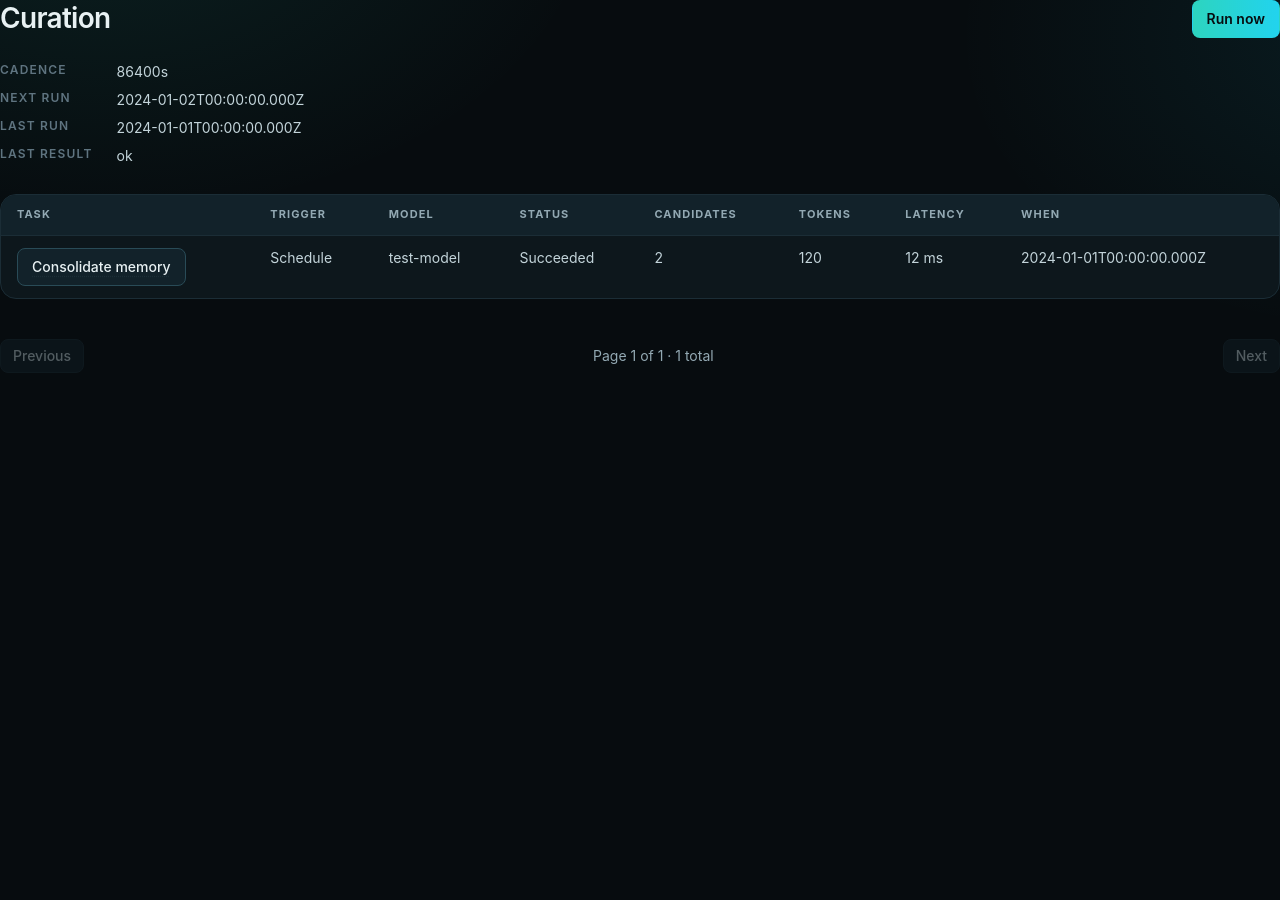
Test: AnalysisRunsPage › opens a task detail dialog with its source events and produced memories
Check: the row with test id "analysis-run-run-1" is shown, box [1,236,1279,298]
Click the button "Consolidate memory" at (101, 267), box [17,248,186,286]
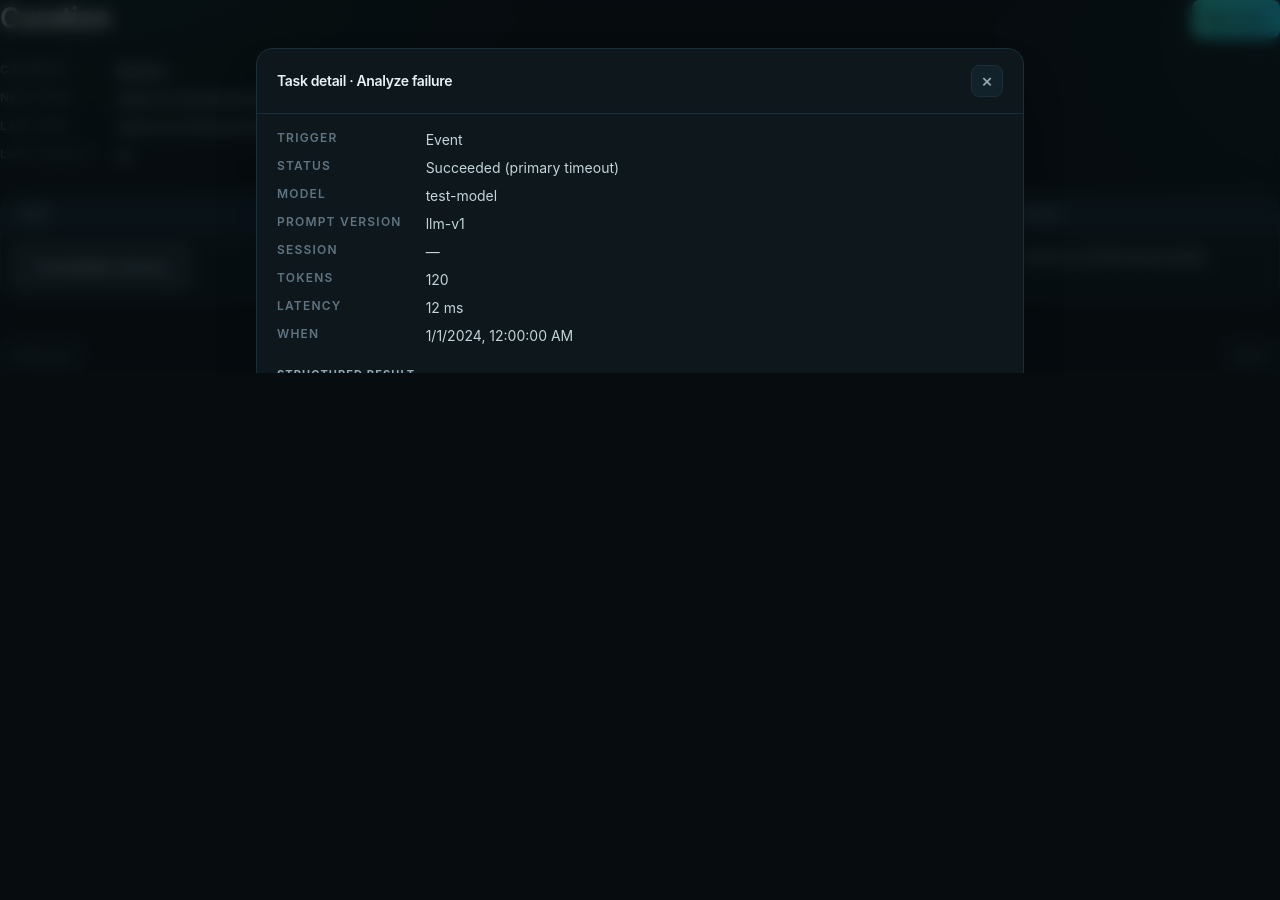
Check: the element with test id "run-detail-meta" shows "Prompt version", box [277,214,402,229]
Click the button named "Close" at (987, 81), box [971,65,1003,97]
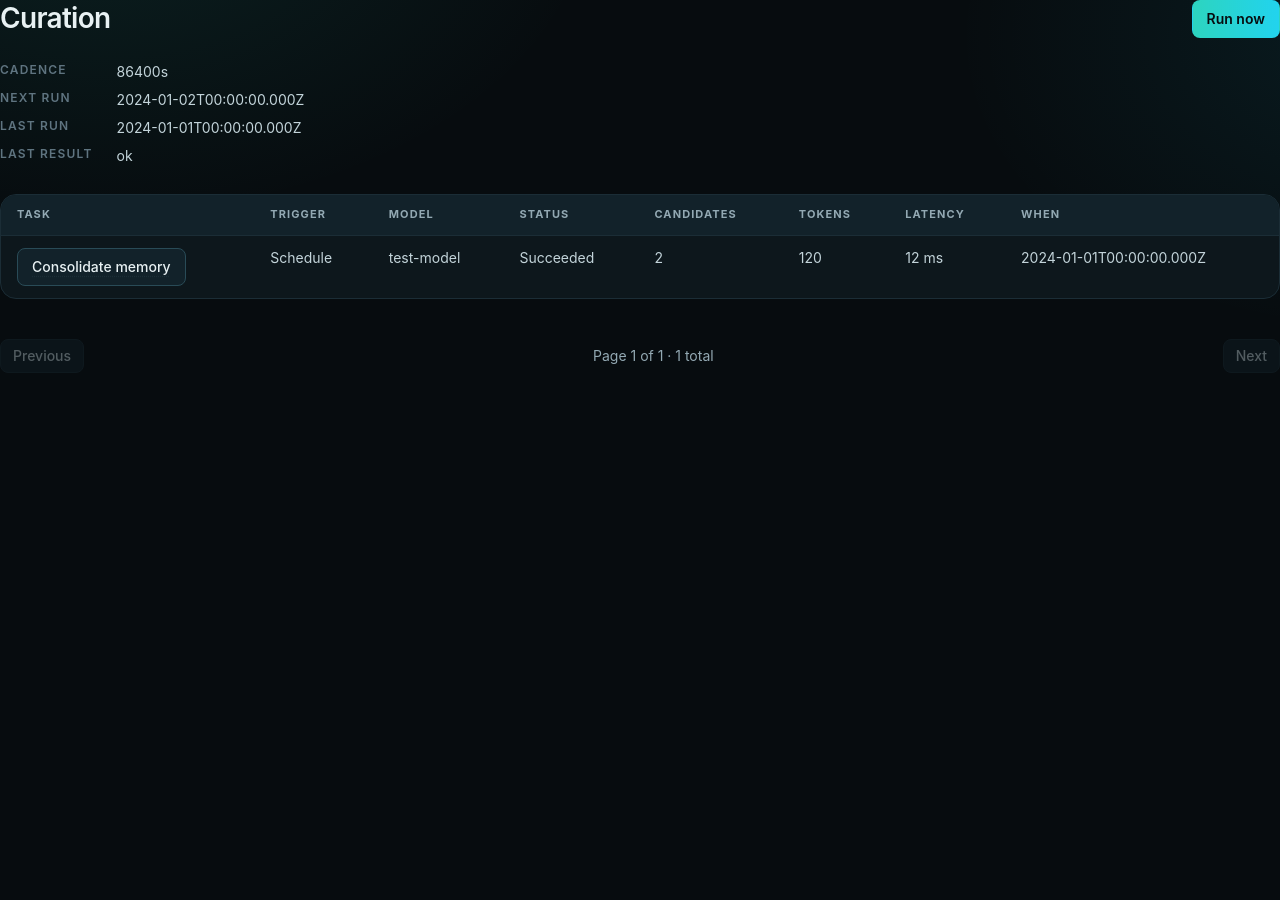
Check: the element with test id "run-detail" is gone
